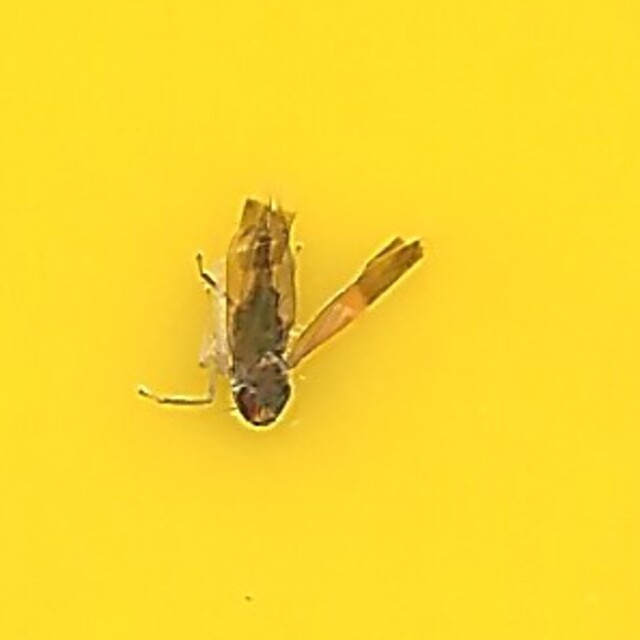Hemiptera: (215, 206, 425, 434)
